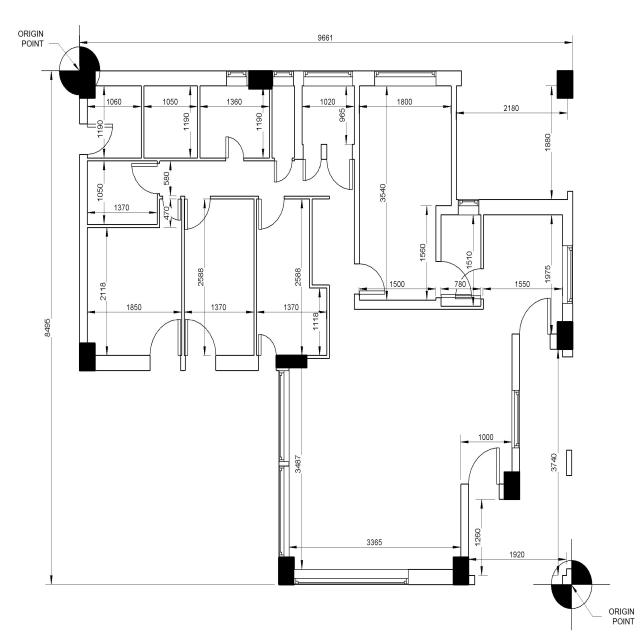Column: (79, 342, 96, 372), (248, 70, 273, 90), (278, 556, 294, 586), (453, 556, 469, 586), (79, 71, 96, 99), (504, 471, 520, 500), (557, 321, 573, 350), (557, 70, 573, 99), (276, 354, 308, 368)
Door: (468, 447, 500, 500), (519, 298, 551, 350), (150, 319, 181, 371), (185, 319, 216, 371), (435, 261, 472, 298), (326, 144, 355, 190), (79, 123, 113, 155), (131, 160, 160, 194), (257, 196, 285, 230), (354, 264, 385, 294), (185, 196, 211, 230), (455, 268, 484, 296), (302, 144, 322, 181), (257, 334, 276, 371), (162, 196, 182, 220), (226, 136, 244, 162), (274, 158, 292, 182)
Window: (294, 569, 408, 585), (374, 70, 436, 86), (303, 70, 353, 86), (562, 245, 573, 304), (512, 390, 520, 448), (226, 70, 247, 86), (273, 70, 294, 86), (458, 199, 479, 215)
